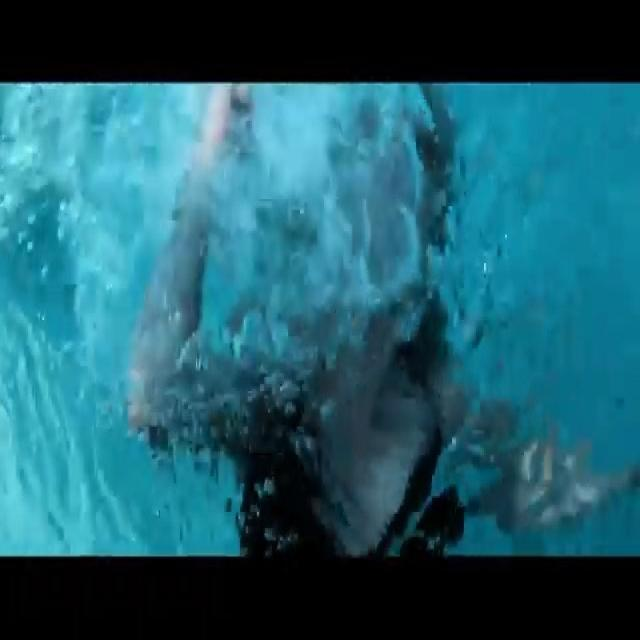Drowning: (109, 88, 595, 553)
